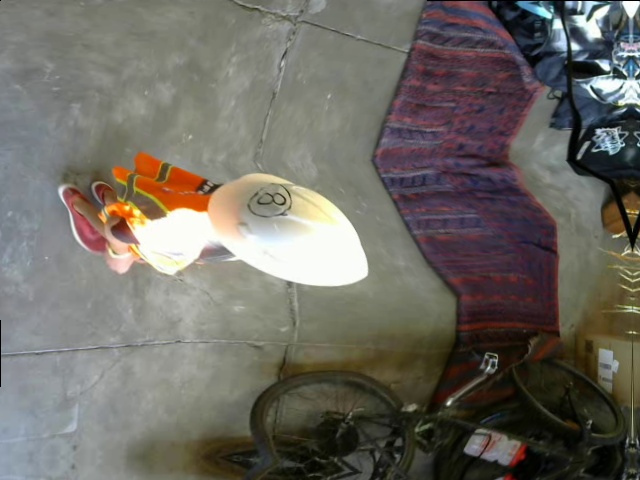eight: (244, 181, 301, 216)
